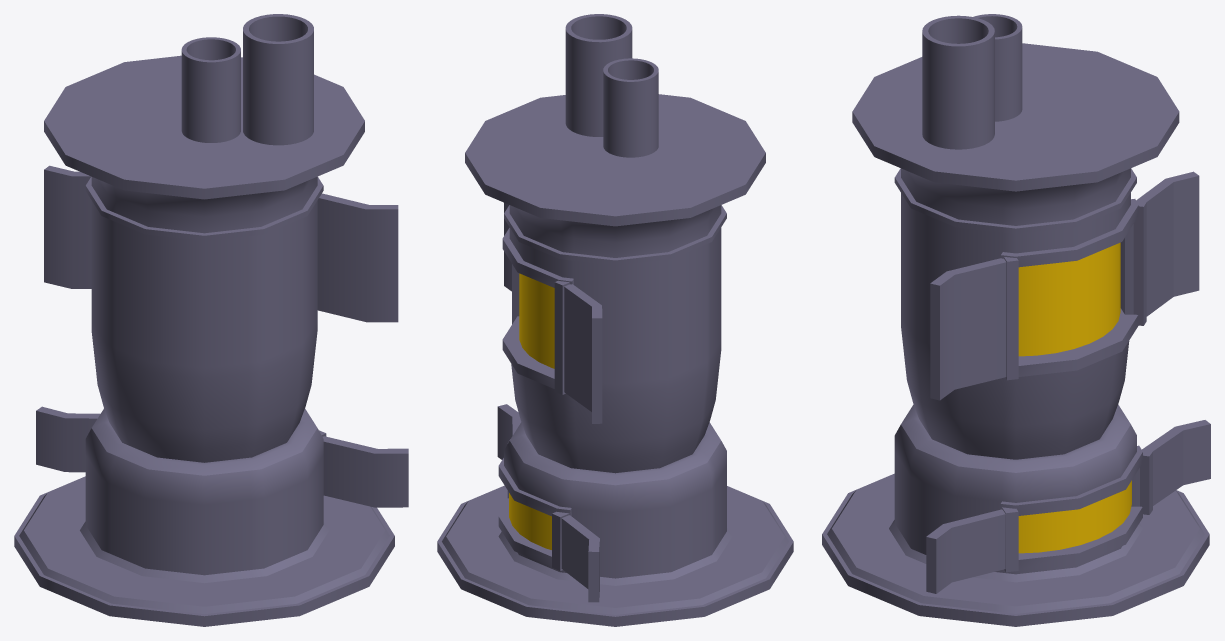
The model's file is Furnace full oppened.fbx.
3 renders of one model, left to right at view 1: azimuth 30°, elevation 25°; view 2: azimuth 150°, elevation 25°; view 3: azimuth 270°, elevation 25°, orthographic. The views are drawn at different scales.
Visible parts, largest first — view 1: furnace, Chimneys, Top left door, top right door, bottom left door, bottom right door; view 2: furnace, Chimneys, top right door, bottom right door, light, light.001, bottom left door, Top left door; view 3: furnace, Chimneys, Top left door, light, top right door, bottom left door, bottom right door, light.001.
Part boxes in pixels (x1,y1,x2,y2): furnace: (14, 55, 394, 626); Chimneys: (181, 14, 313, 145); Top left door: (317, 193, 398, 322); top right door: (44, 165, 91, 288); bottom left door: (319, 430, 408, 507); bottom right door: (36, 406, 100, 472); furnace: (437, 94, 793, 626); Chimneys: (565, 14, 658, 157); top right door: (554, 280, 602, 423); bottom right door: (552, 511, 599, 602); light: (519, 273, 554, 368); light.001: (509, 493, 551, 549); bottom left door: (497, 404, 521, 498); Top left door: (504, 202, 519, 324); furnace: (822, 43, 1209, 626); Chimneys: (922, 14, 1022, 149); Top left door: (930, 257, 1018, 400); light: (1018, 242, 1120, 356); top right door: (1133, 171, 1199, 325); bottom left door: (926, 507, 1018, 593); bottom right door: (1140, 420, 1210, 514); light.001: (1018, 480, 1131, 553).
Bounding box in the file's own units: 642 × 640 × 978.
